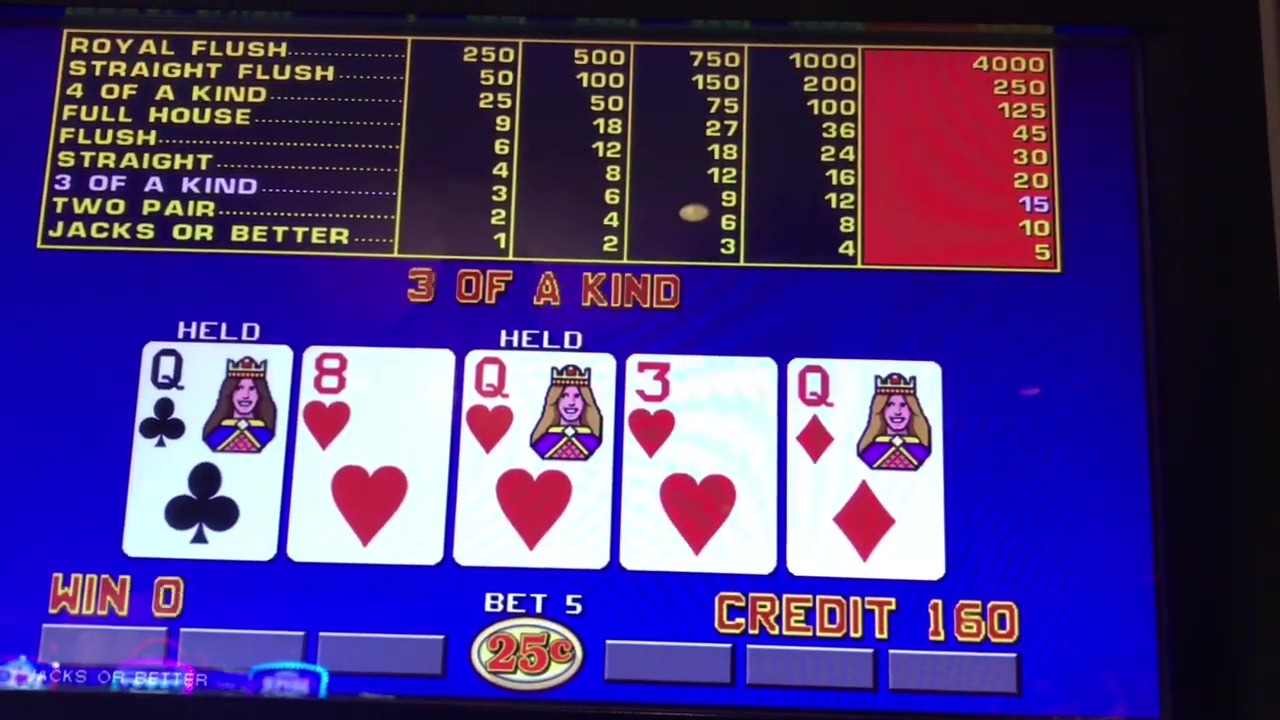CQ: (141, 347, 286, 556)
DQ: (788, 366, 939, 573)
H3: (631, 357, 769, 573)
H8: (304, 350, 442, 563)
HQ: (465, 353, 610, 573)
